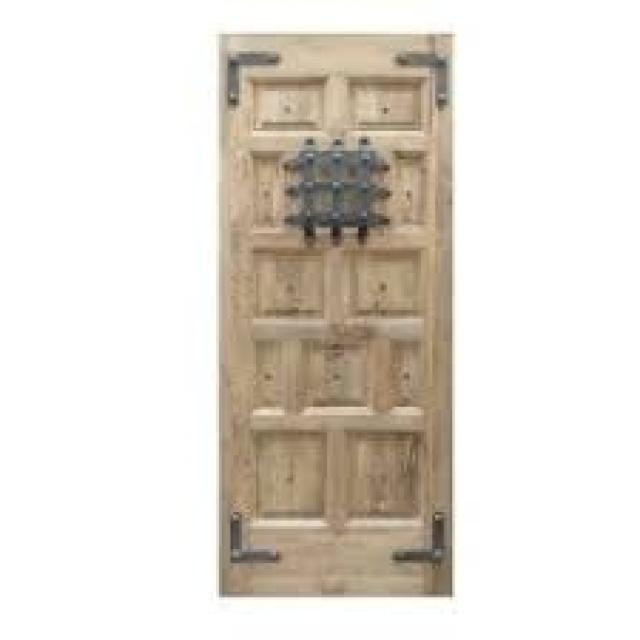door: (216, 32, 455, 598)
